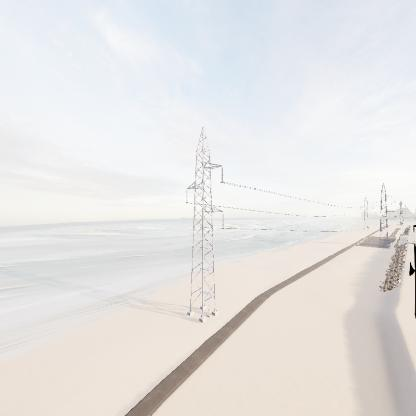tower: (180, 122, 229, 328)
